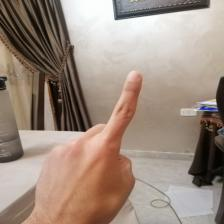one: (39, 71, 148, 210)
